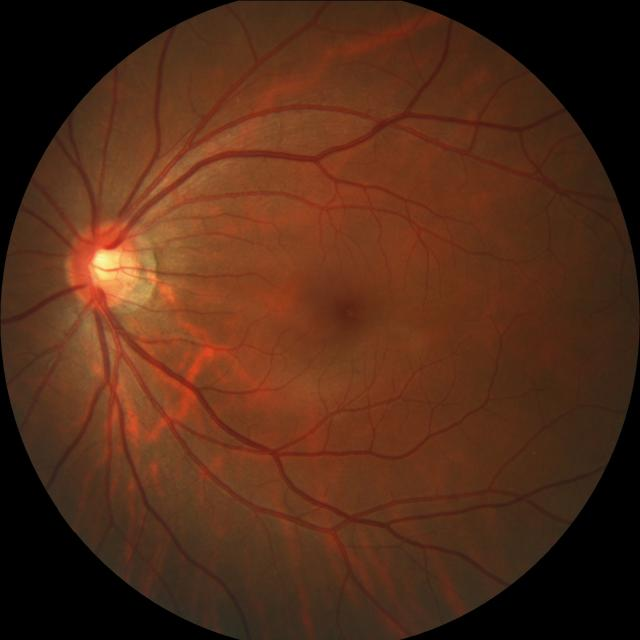OC: (84, 246, 127, 288)
OD: (66, 219, 146, 310)
